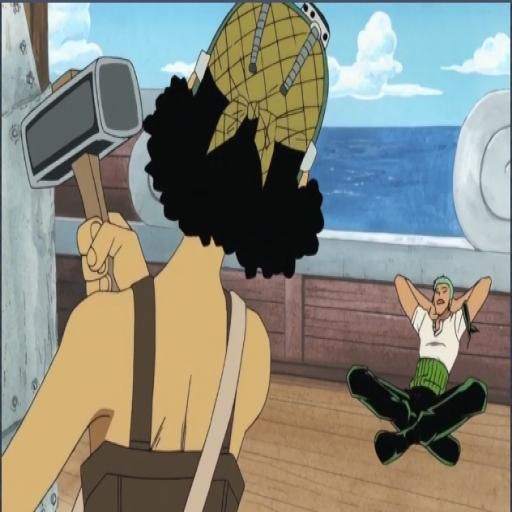Usopp: (8, 0, 345, 512)
Zoro: (361, 233, 512, 507)
